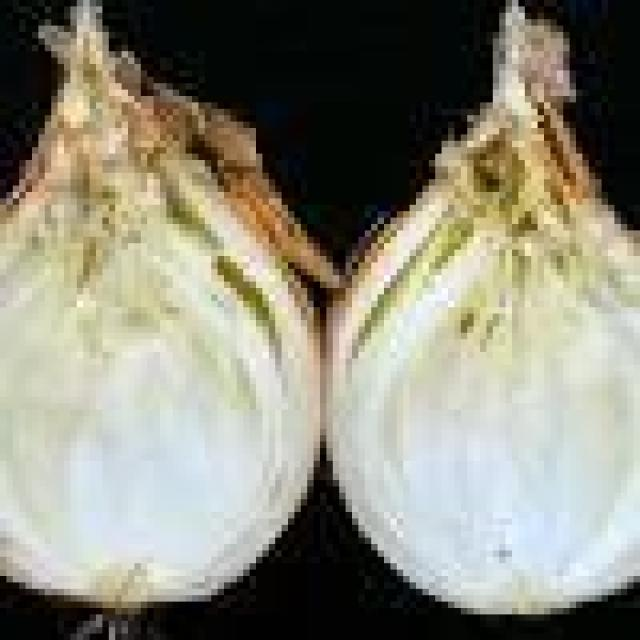Onion: (6, 6, 326, 628), (313, 25, 640, 627)
